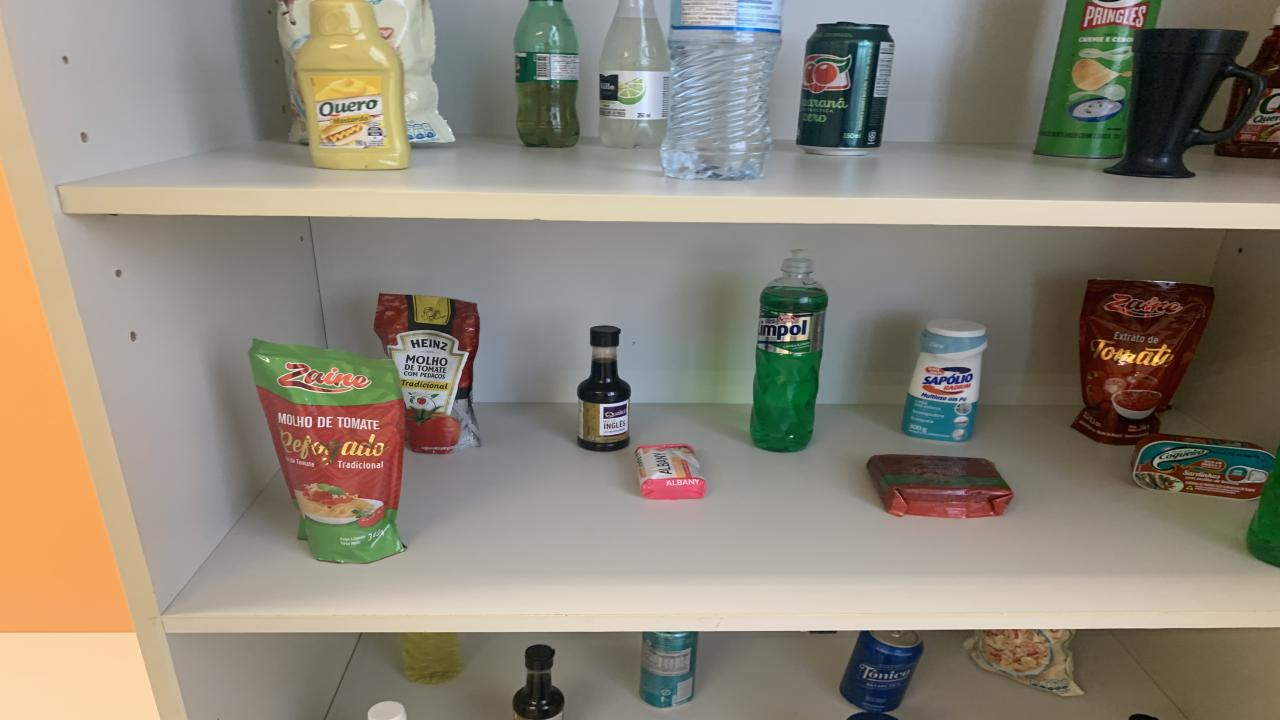Cleaner-Cleanup_Items: (902, 319, 988, 442)
Detergent-Cleanup_Items: (750, 249, 828, 452), (1248, 448, 1280, 566), (402, 632, 460, 684)
English_Sauce-Pantry_Items: (578, 326, 630, 452), (512, 645, 565, 720)
Flakes-Snacks: (368, 0, 455, 144), (965, 628, 1082, 696), (278, 0, 310, 142)
Guarana-Drinks: (515, 0, 580, 148)
Guarana_Can-Drinks: (798, 22, 895, 154)
Guava-Snacks: (868, 454, 1012, 518)
Ketchup-Pantry_Items: (1215, 24, 1280, 159), (1225, 79, 1248, 126)
Mustard-Pantry_Items: (295, 0, 410, 169)
Pringles-Snacks: (1035, 0, 1160, 158)
Soap-Cleanup_Items: (635, 444, 705, 499)
Soda-Drinks: (600, 0, 670, 148)
Tea-Drinks: (640, 632, 698, 707)
Tomato_Sauce-Pantry_Items: (250, 339, 405, 562), (1070, 279, 1215, 444), (375, 294, 480, 454)
Tonic-Drinks: (840, 630, 922, 712)
Tuna_Can-Pantry_Items: (1132, 435, 1272, 501)
Water_Bottle-Drinks: (660, 0, 782, 180)
